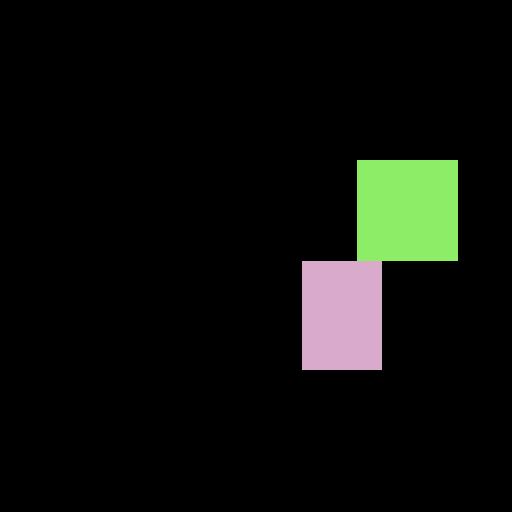circle: (302, 160, 457, 369)
